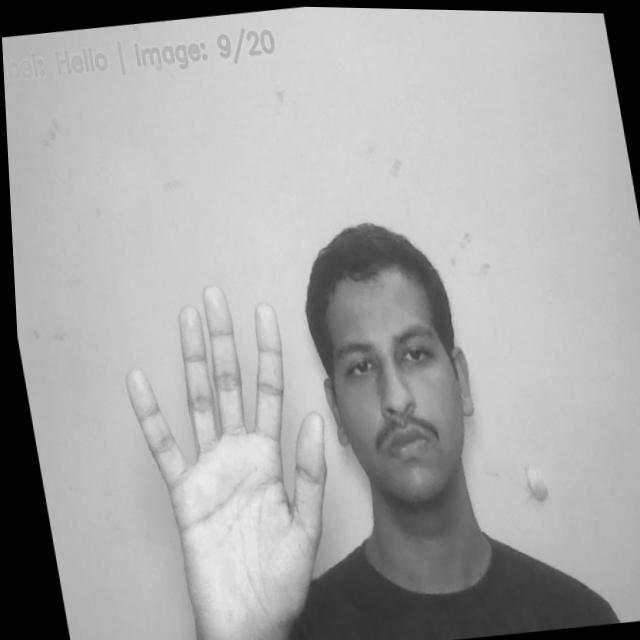Hello: (91, 264, 352, 640)
